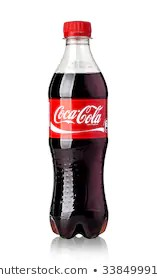coke-bottle-700ml: (43, 18, 107, 239)
